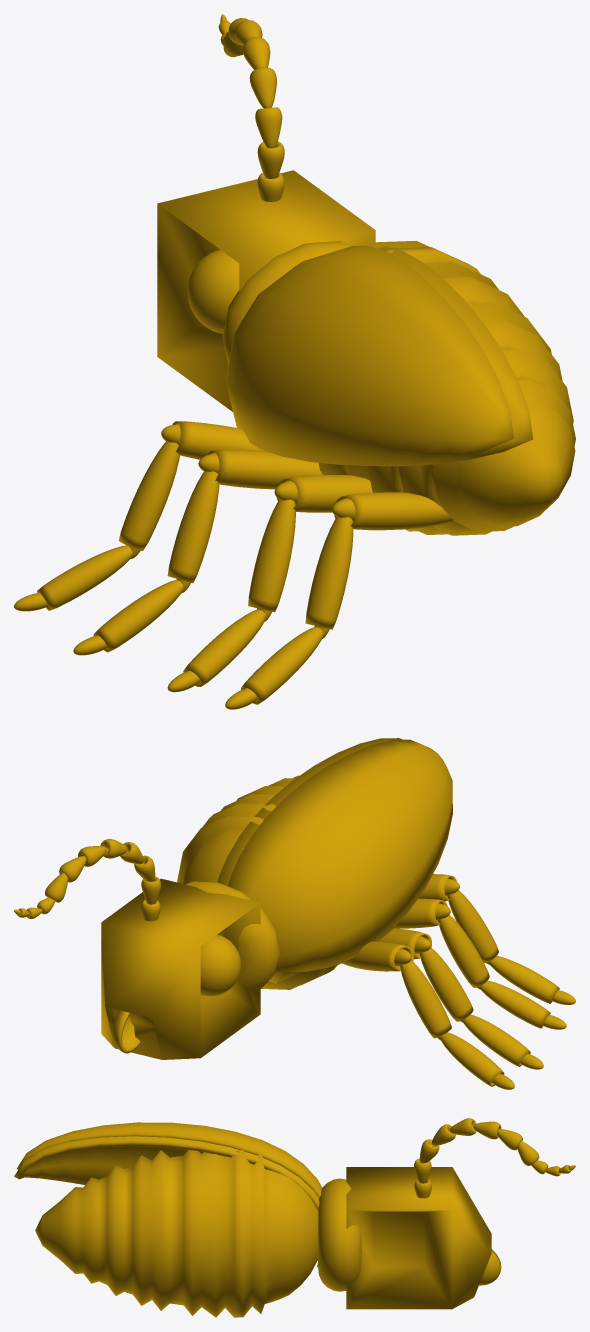
File: bug.glb
The picture shows the model from 3 angles, top to bottom: view 1: azimuth 30°, elevation 25°; view 2: azimuth 150°, elevation 25°; view 3: azimuth 270°, elevation 25°; orthographic projection. The views are drawn at different scales.
Parts seen in each view (by area): view 1: Sphere.004, Sphere.006, Sphere.003, Cube, Sphere.005, Sphere, Sphere.001; view 2: Sphere.004, Cube, Sphere.006, Sphere.003, Sphere.005, Sphere.001, Sphere, Sphere.002; view 3: Sphere.003, Cube, Sphere.004, Sphere.001, Sphere.005, Sphere.002.
Boxes of the visible parts, x1,y1,x2,y2 form: Sphere.004: (226,245,533,466); Sphere.006: (14,421,453,709); Sphere.003: (318,241,575,535); Cube: (157,170,375,411); Sphere.005: (218,14,284,201); Sphere: (187,249,239,333); Sphere.001: (222,241,353,364); Sphere.004: (217,738,452,983); Cube: (101,878,260,1059); Sphere.006: (341,874,575,1089); Sphere.003: (177,775,341,989); Sphere.005: (14,838,161,921); Sphere.001: (185,881,279,989); Sphere: (200,934,241,996); Sphere.002: (112,1010,140,1053); Sphere.003: (35,1150,318,1317); Cube: (346,1167,491,1309); Sphere.004: (14,1122,322,1267); Sphere.001: (318,1178,361,1291); Sphere.005: (414,1118,575,1198); Sphere.002: (479,1249,501,1285).
Bounding box in the file's own units: 5.44 × 4.13 × 8.68.
